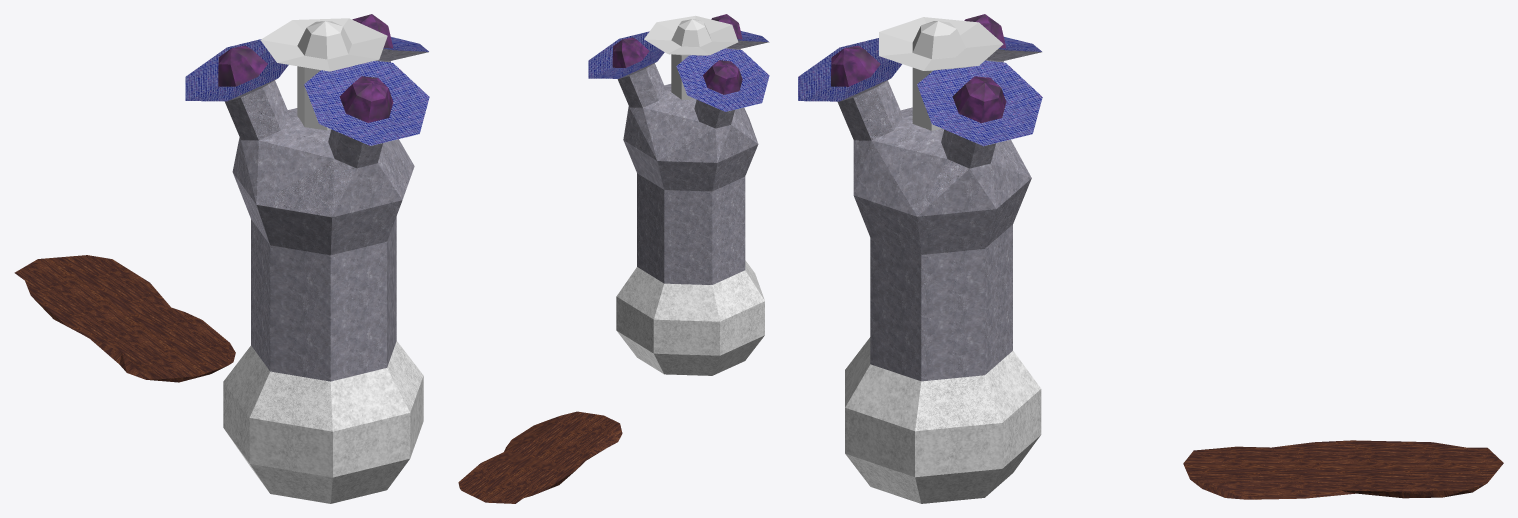
The model's file is Booth.fbx.
3 views of the same model, side by side, from view 1: azimuth 30°, elevation 25°; view 2: azimuth 150°, elevation 25°; view 3: azimuth 270°, elevation 25° (orthographic). The views are drawn at different scales.
Visible parts, largest first — view 1: Primary Mesh, mesh, OG cylinder (delete when imported), LOD Crystal, LOD Crystal_2, LOD Crystal_1; view 2: Primary Mesh, mesh, OG cylinder (delete when imported), LOD Crystal_2, LOD Crystal_1; view 3: Primary Mesh, mesh, OG cylinder (delete when imported), LOD Crystal_1, LOD Crystal.
Part boxes in pixels (x1,y1,x2,y2): Primary Mesh: (185,37,429,503); mesh: (14,255,235,382); OG cylinder (delete when imported): (260,18,387,130); LOD Crystal: (339,76,393,122); LOD Crystal_2: (218,45,267,86); LOD Crystal_1: (352,14,393,48); Primary Mesh: (588,31,769,375); mesh: (458,411,622,503); OG cylinder (delete when imported): (644,15,738,99); LOD Crystal_2: (703,60,742,94); LOD Crystal_1: (612,37,649,67); Primary Mesh: (798,37,1042,503); mesh: (1183,440,1503,499); OG cylinder (delete when imported): (879,17,1003,130); LOD Crystal_1: (952,76,1006,122); LOD Crystal: (831,45,880,86).
Bounding box in the file's own units: 16.03 × 29.53 × 41.76.
